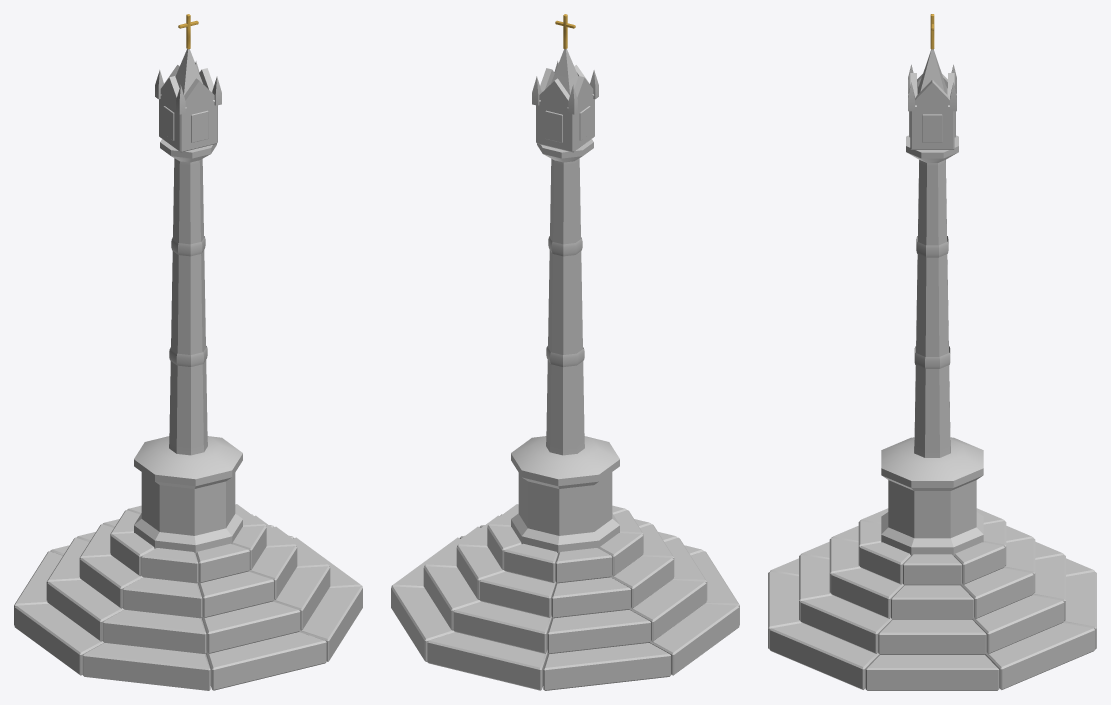
The model's file is SE_MarketCross_Town.glb.
The picture shows the model from 3 angles, left to right: view 1: azimuth 30°, elevation 25°; view 2: azimuth 150°, elevation 25°; view 3: azimuth 270°, elevation 25°; orthographic projection.
Parts seen in each view (by area): view 1: SE_MarketCross_Town; view 2: SE_MarketCross_Town; view 3: SE_MarketCross_Town.
Part boxes in pixels (box(x1,y1,x2,y2)): SE_MarketCross_Town: box(14, 14, 362, 690); SE_MarketCross_Town: box(391, 14, 739, 690); SE_MarketCross_Town: box(768, 14, 1096, 690).
Size of what is drawn, in the model's own units: 2.96 by 6.04 by 2.96.
